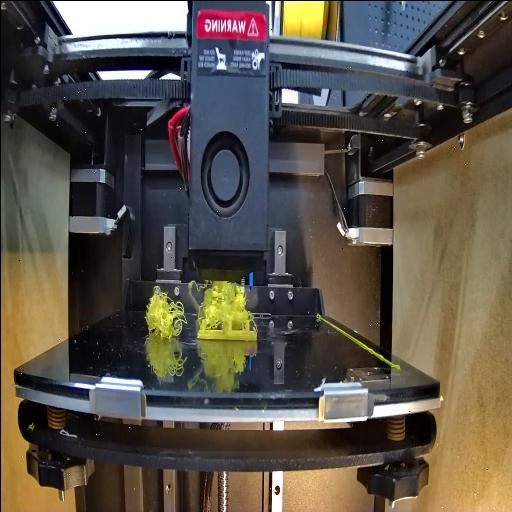spaghetti: (194, 275, 248, 324), (140, 282, 184, 339)
